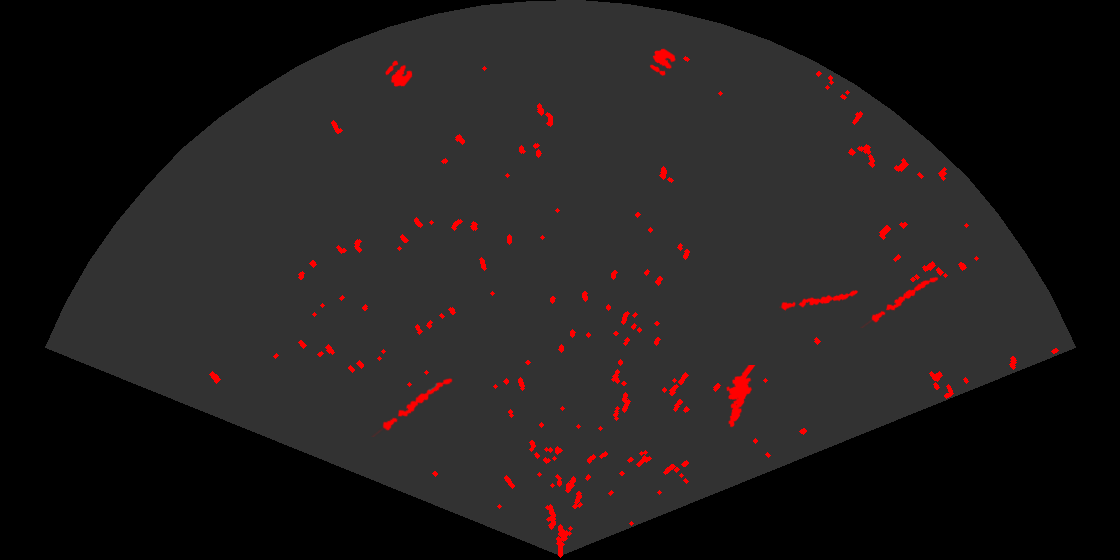ball: (384, 59, 414, 88), (648, 47, 677, 77)
chain: (371, 376, 454, 437), (860, 275, 940, 328), (779, 289, 860, 312)
frogman: (725, 365, 757, 429)
